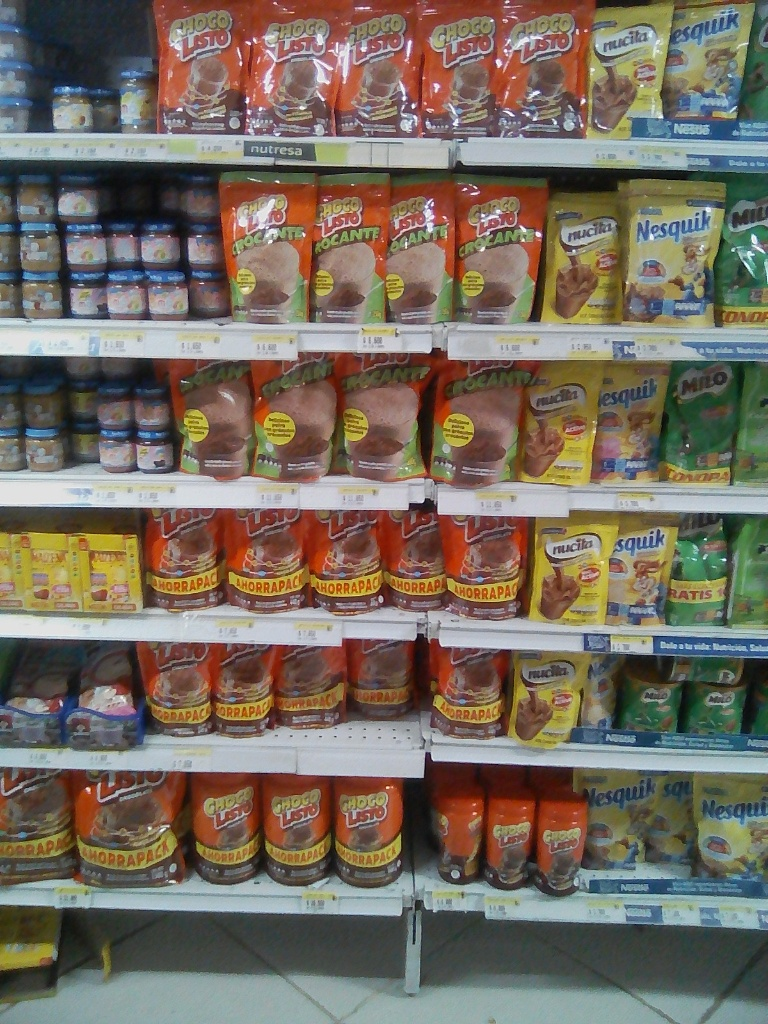COL0170102DYP25000: (214, 168, 313, 320)
COL0170103DYP1,500: (68, 769, 189, 888)
COL0170103DYP44000: (135, 636, 216, 736)
COL0170103TRR00100: (328, 772, 408, 888)
COL0170103TRR30000: (537, 790, 590, 898)
COL0170203DYP50000: (669, 369, 737, 488)
COL0170303DYP20000: (626, 173, 721, 330)
COL0170305DYP20000: (598, 360, 667, 484)
COL0170306DYP20000: (612, 510, 677, 631)
